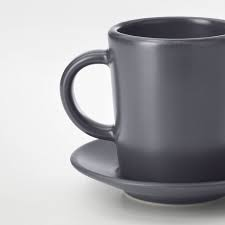cup: (55, 15, 225, 182)
